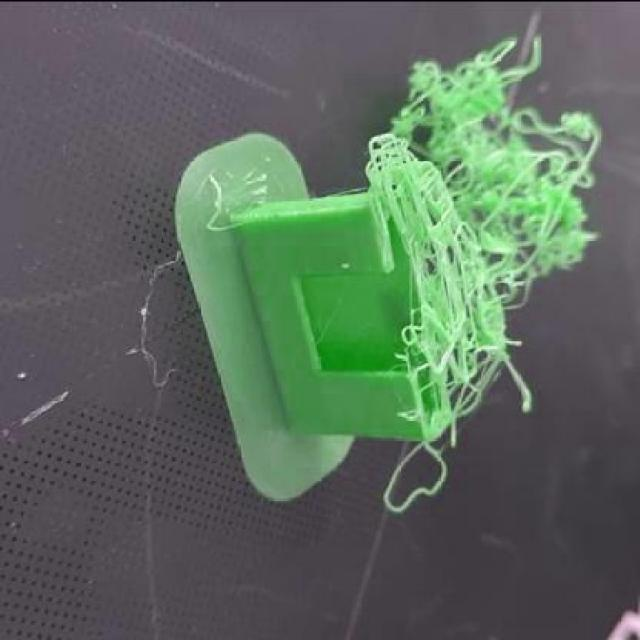spaghetti: (365, 33, 601, 512)
